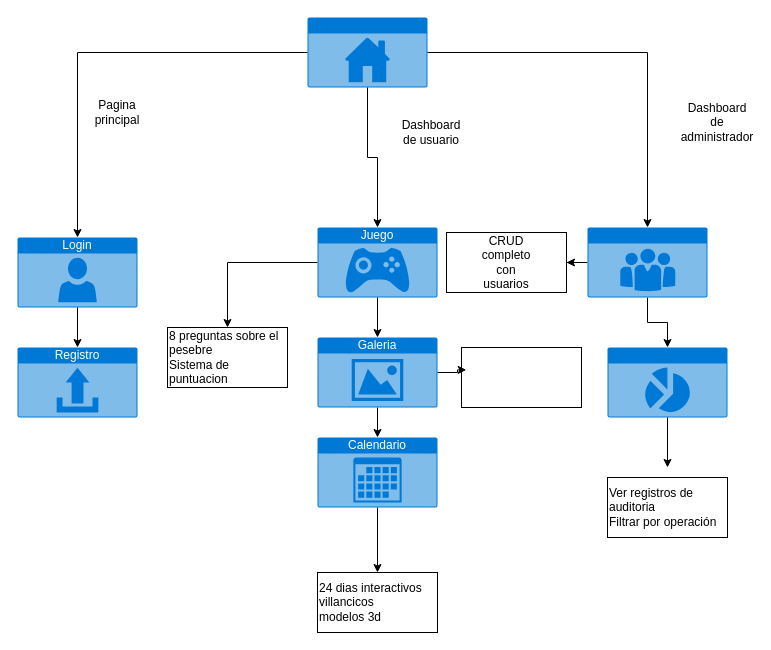
Image size: 771x650. Some labels were removed from this diagram. Each missing label, with the centre of its shape:
"Bitacora" goes at point (667, 382).
"Galeria interactiva Personajes del pesebre" goes at point (521, 377).
"Gestion de usuarios" goes at point (647, 262).
"Home" goes at point (367, 52).
